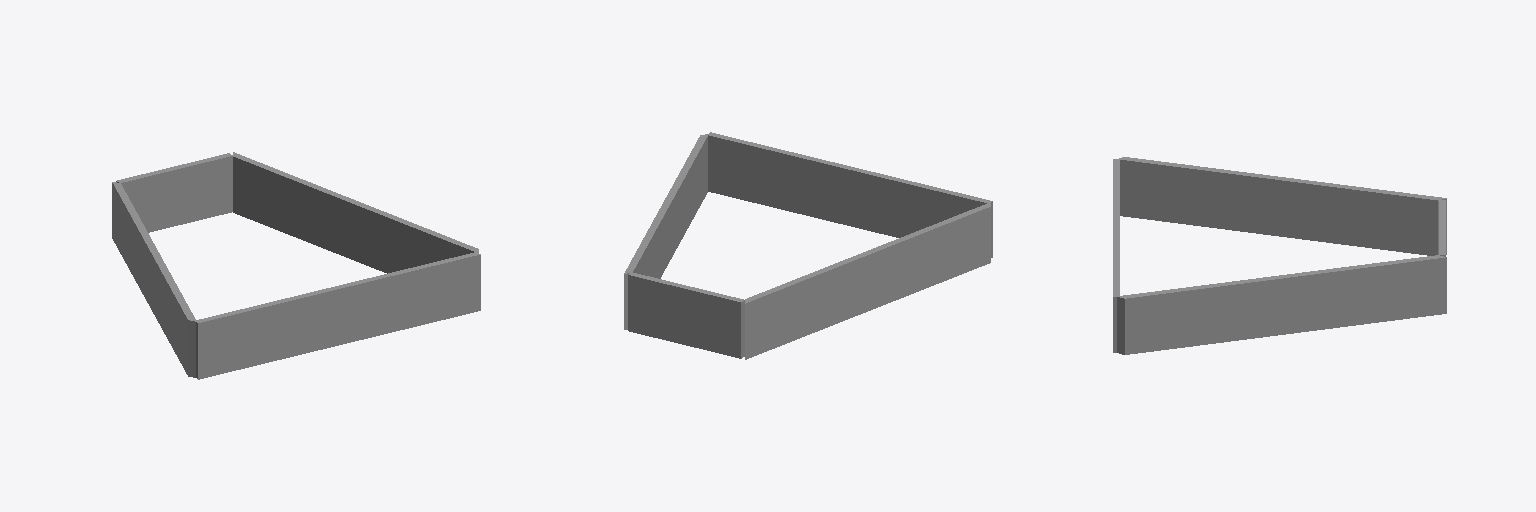
The model's file is Highlight4.obj.
3 views of the same model, side by side, from view 1: azimuth 30°, elevation 25°; view 2: azimuth 150°, elevation 25°; view 3: azimuth 270°, elevation 25° (orthographic).
Visible parts, largest first — view 1: CrossBar_(2).003, CrossBar_(1).003, CrossBar_(3).003, CrossBar.004; view 2: CrossBar.004, CrossBar_(2).003, CrossBar_(3).003, CrossBar_(1).003; view 3: CrossBar_(1).003, CrossBar.004, CrossBar_(2).003.
Boxes of the visible parts, <box> form: CrossBar_(2).003: <box>196,252,480,379</box>; CrossBar_(1).003: <box>233,152,478,273</box>; CrossBar_(3).003: <box>116,153,232,232</box>; CrossBar.004: <box>112,182,196,377</box>; CrossBar.004: <box>745,203,990,359</box>; CrossBar_(2).003: <box>707,132,992,257</box>; CrossBar_(3).003: <box>628,272,744,358</box>; CrossBar_(1).003: <box>624,134,707,329</box>; CrossBar_(1).003: <box>1116,255,1446,354</box>; CrossBar.004: <box>1119,157,1446,255</box>; CrossBar_(2).003: <box>1113,159,1119,352</box>.
Bounding box in the file's own units: 1.13 × 0.21 × 1.13.